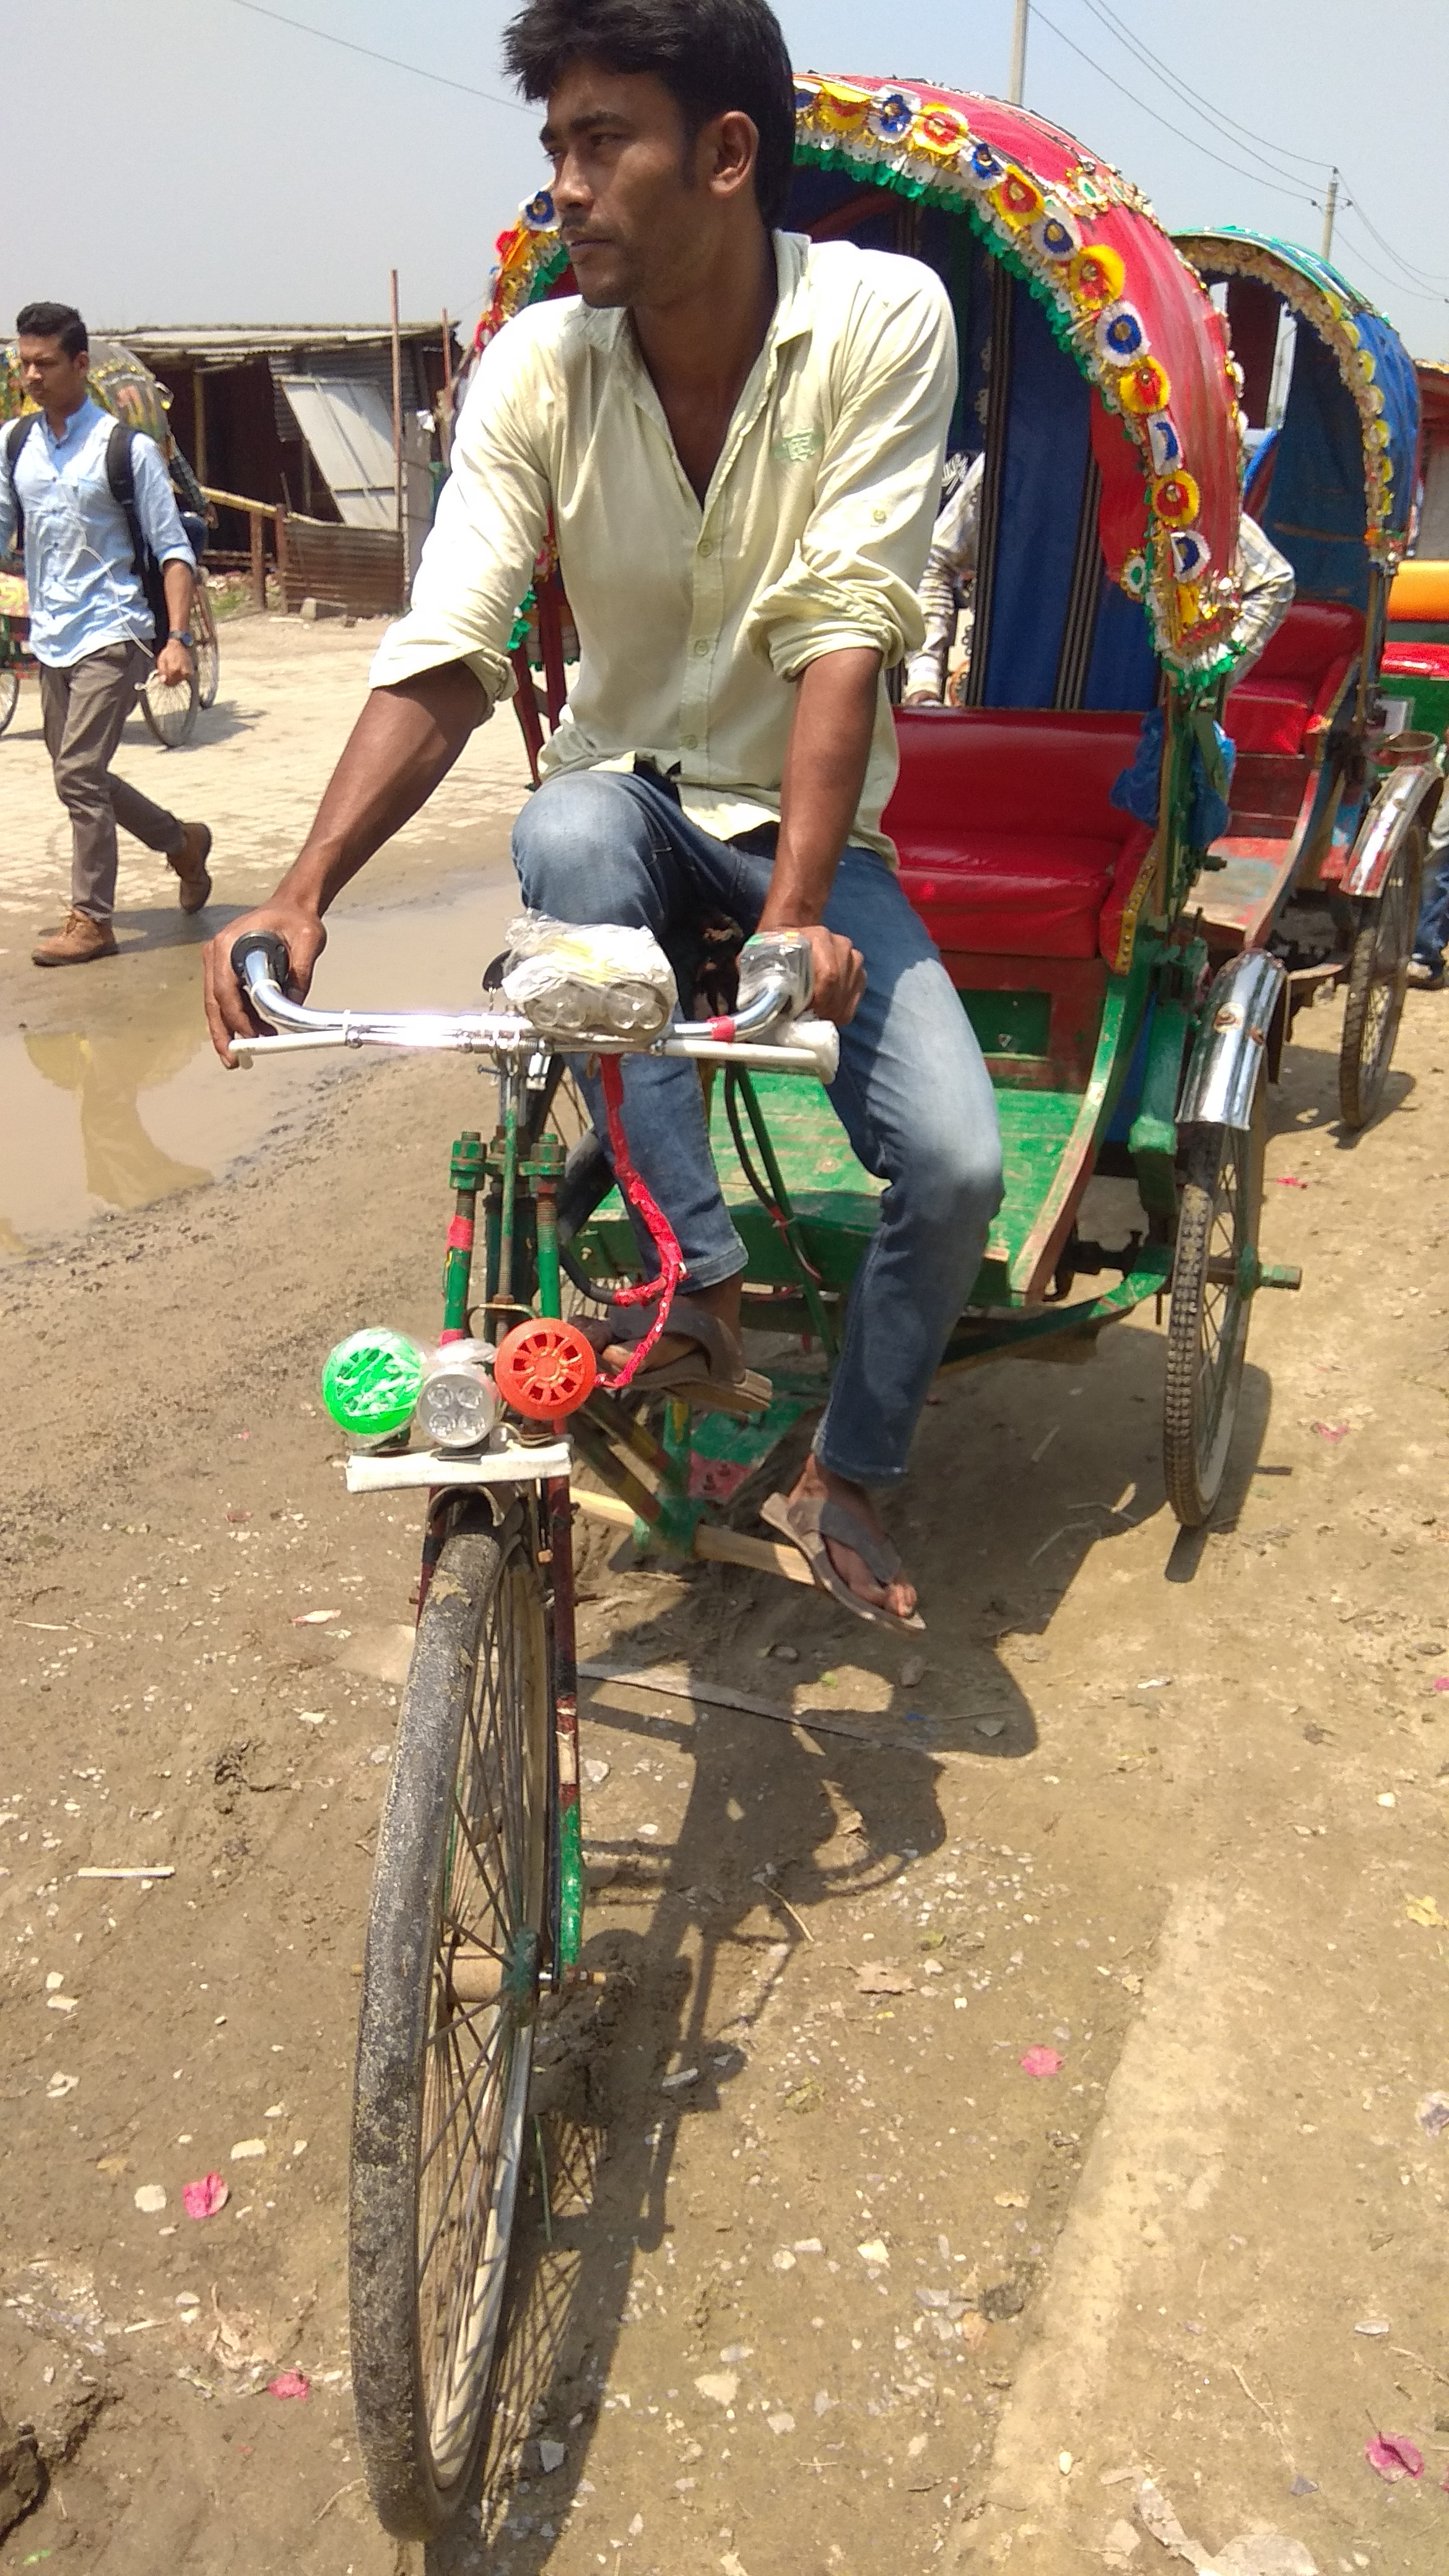Rickshaw: (223, 14, 1256, 2217), (1148, 203, 1428, 1166)
